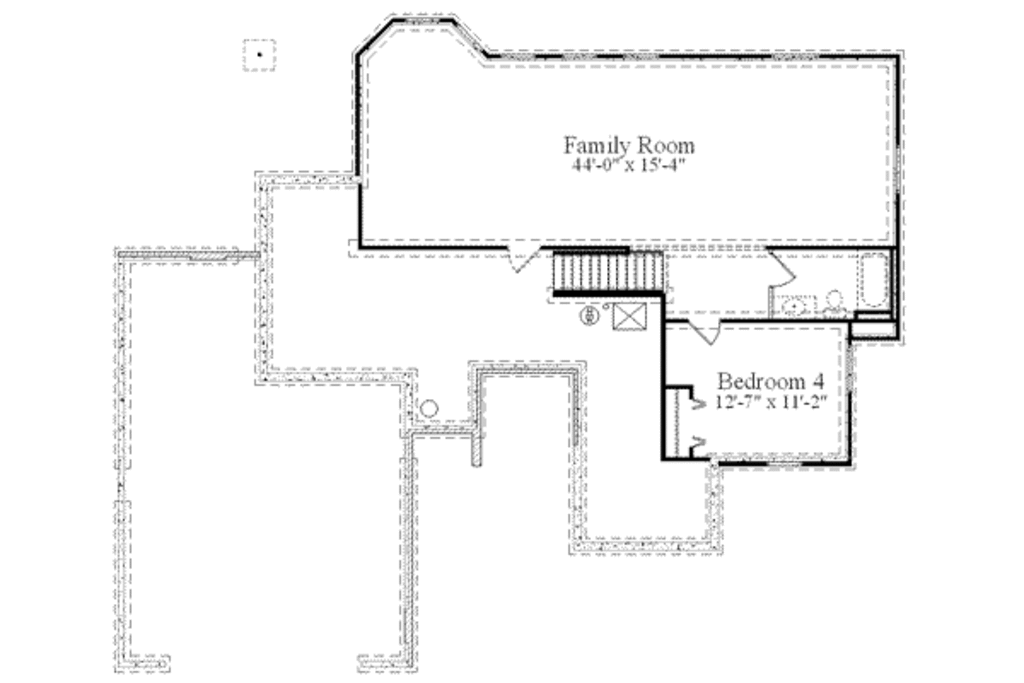door: (501, 226, 545, 274), (761, 250, 806, 290), (688, 311, 727, 348)
large_sink: (815, 285, 850, 317)
small_sink: (767, 294, 817, 317)
stairs: (546, 243, 677, 300)
tub: (858, 246, 894, 312)
